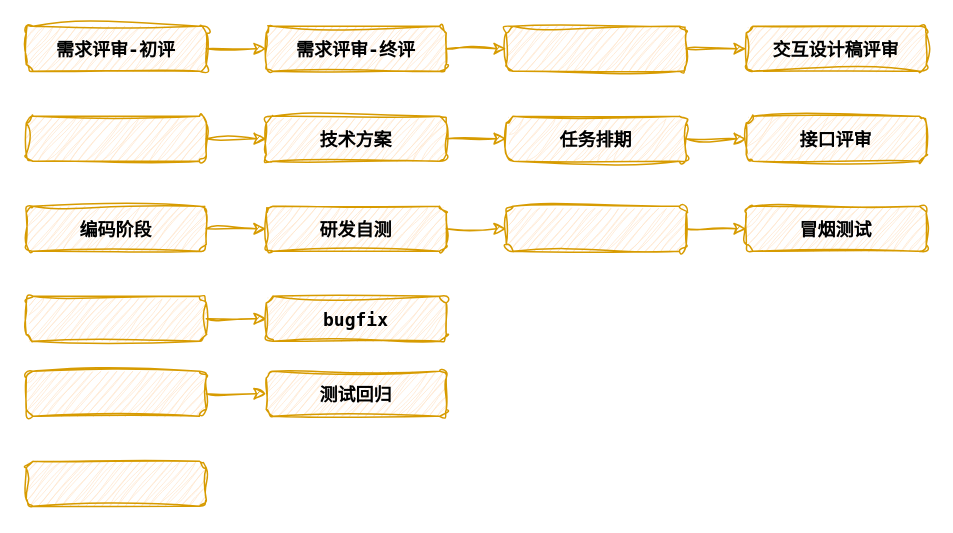
The diagram is 953 pixels wide and 533 high, and some of its shapes have lost their labels. Each missing label, with the centre of its shape:
发布: [115,393]
提测阶段: [115,318]
测试环境部署: [595,228]
设计稿评审: [595,48]
需求反讲: [115,138]
项目复盘: [115,483]
